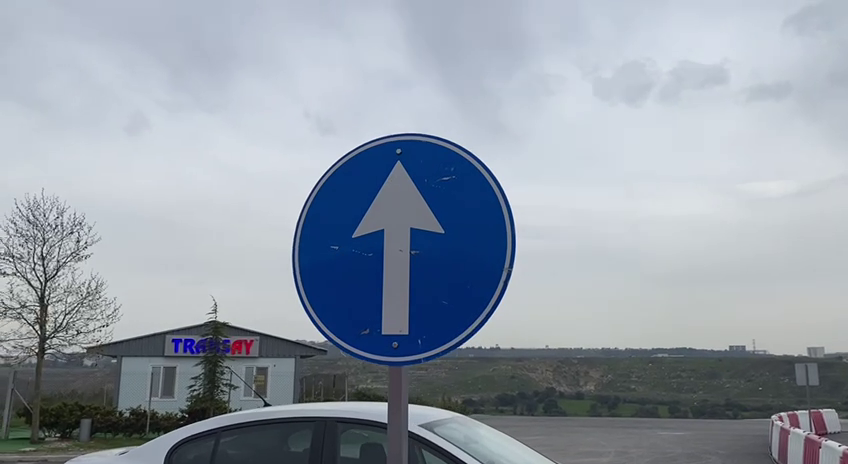forward: (288, 126, 520, 367)
